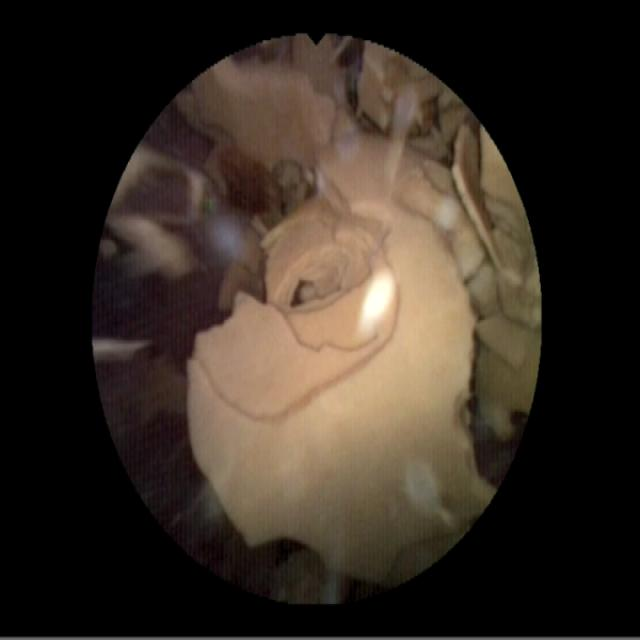stone: (183, 38, 534, 582), (107, 149, 210, 278)
